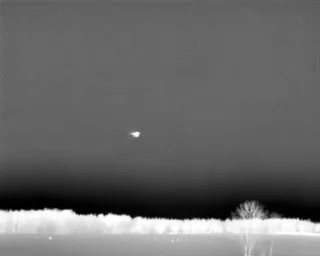BIRD: (127, 127, 144, 142)
